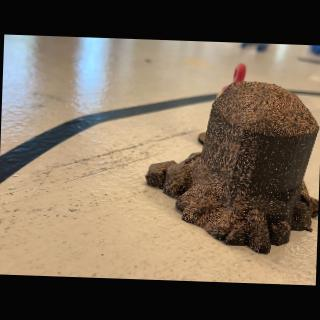teletubby: (232, 63, 246, 83), (217, 86, 229, 98)
